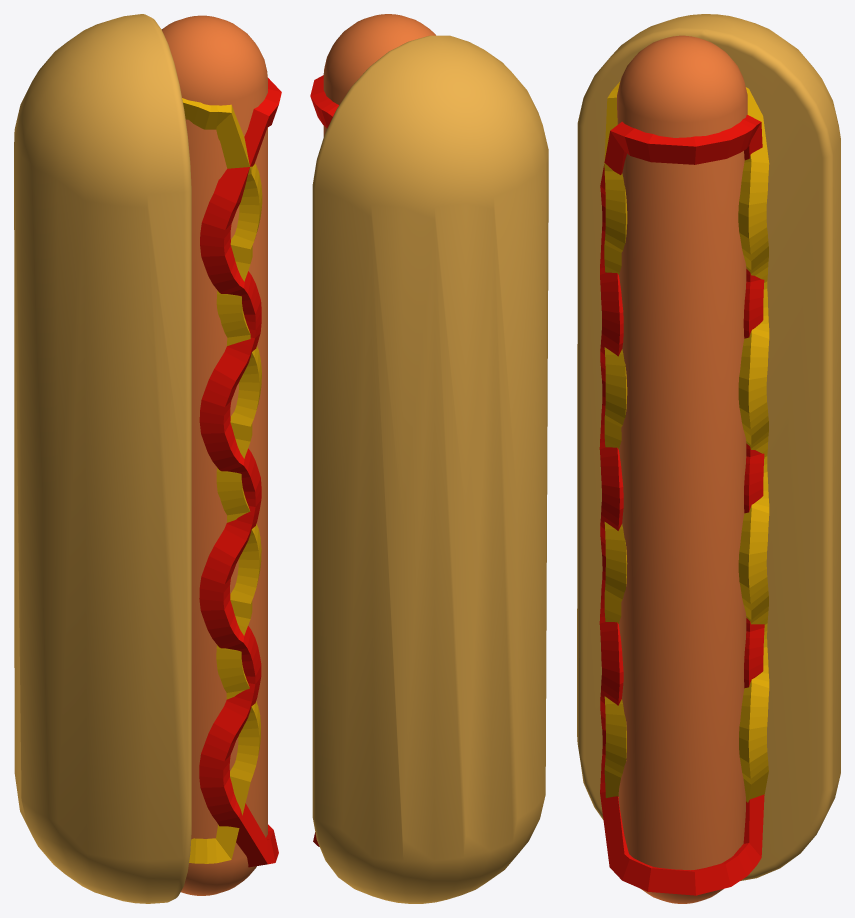
Rendered from hotdog.glb.
The picture shows the model from 3 angles, left to right: view 1: azimuth 30°, elevation 25°; view 2: azimuth 150°, elevation 25°; view 3: azimuth 270°, elevation 25°; orthographic projection.
Visible parts, largest first — view 1: Sphere, Sphere.001, Plane, Plane.001; view 2: Sphere, Sphere.001, Plane; view 3: Sphere.001, Sphere, Plane.001, Plane.
Boxes of the visible parts, box(x1,y1,x2,y2) form: Sphere: box(14, 14, 191, 903); Sphere.001: box(161, 15, 267, 895); Plane: box(199, 78, 281, 867); Plane.001: box(182, 98, 262, 863); Sphere: box(312, 35, 548, 903); Sphere.001: box(323, 14, 435, 136); Plane: box(310, 75, 338, 846); Sphere.001: box(617, 35, 747, 903); Sphere: box(577, 14, 840, 880); Plane.001: box(604, 81, 769, 802); Plane: box(599, 114, 764, 895).
Bounding box in the file's own units: 1.91 × 7.01 × 1.96.
